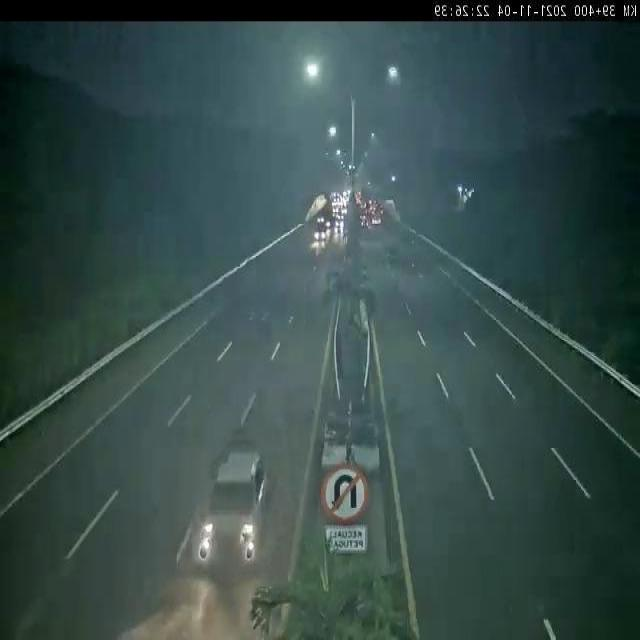Car: (170, 431, 289, 593), (312, 222, 330, 244)
